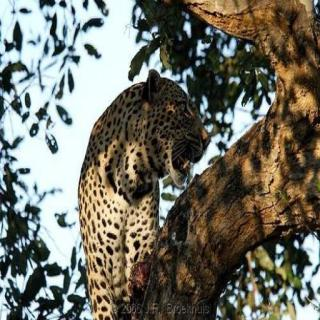Leopard: (66, 46, 223, 320)
